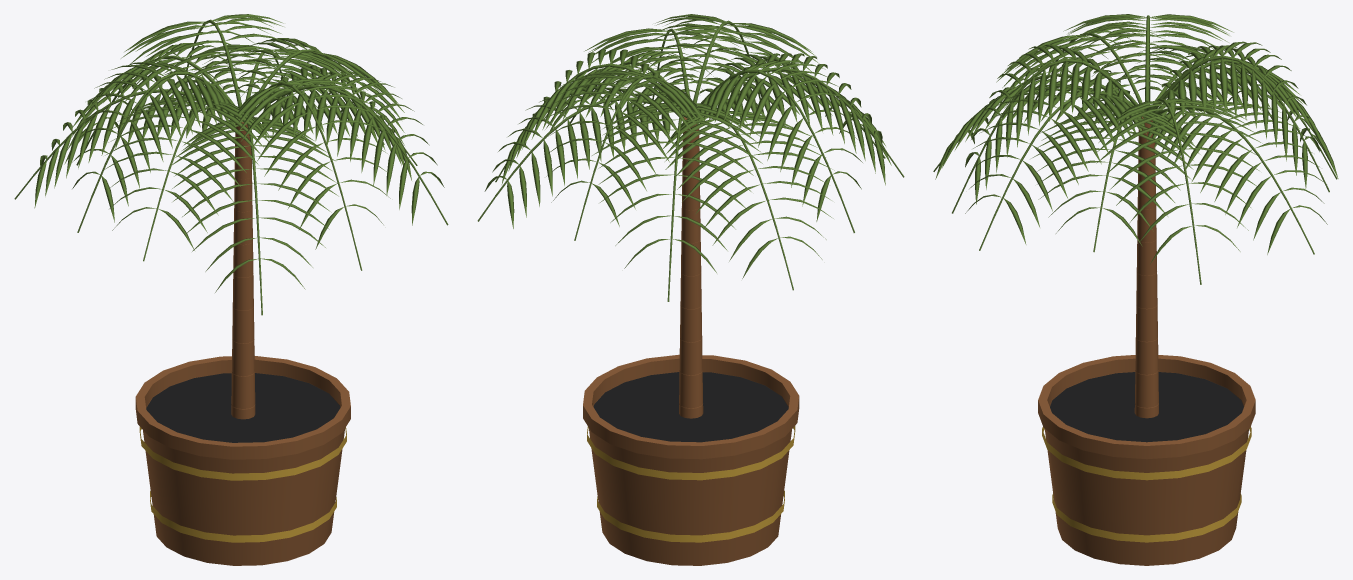
File: parametric-planter-service.glb
3 renders of one model, left to right at view 1: azimuth 30°, elevation 25°; view 2: azimuth 150°, elevation 25°; view 3: azimuth 270°, elevation 25°, orthographic.
Visible parts, largest first — view 1: parametric-planter-service; view 2: parametric-planter-service; view 3: parametric-planter-service.
Boxes of the visible parts, bbox=[...] form: parametric-planter-service: bbox=[14, 14, 448, 565]; parametric-planter-service: bbox=[477, 14, 904, 565]; parametric-planter-service: bbox=[933, 14, 1338, 565].
Size of the model in its own units: 1.09 by 1.45 by 1.12.
